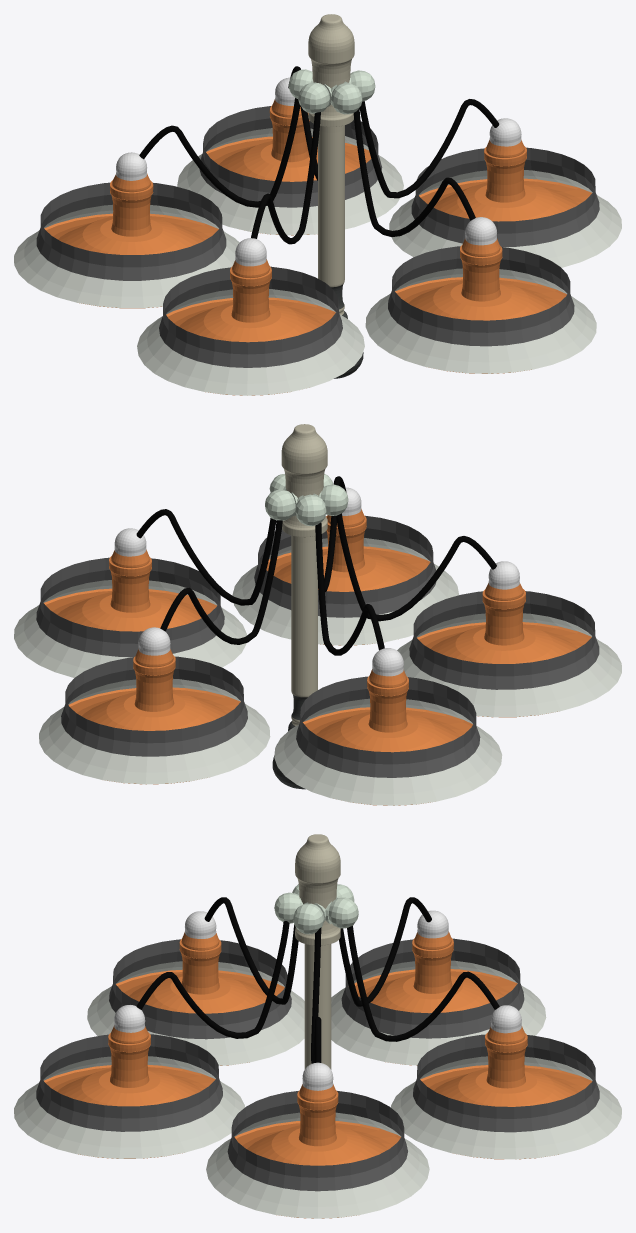
File: Chandelier titik.fbx
3 renders of one model, top to bottom at view 1: azimuth 30°, elevation 25°; view 2: azimuth 150°, elevation 25°; view 3: azimuth 270°, elevation 25°, orthographic.
Parts seen in each view (by area): view 1: Cube.001, Cylinder, BezierCurve, Cube; view 2: Cube.001, Cylinder, BezierCurve, Cube; view 3: Cube.001, BezierCurve, Cylinder, Cube.
Boxes of the visible parts, bbox=[...] form: Cube.001: bbox=[14, 77, 621, 395]; Cylinder: bbox=[308, 14, 363, 378]; BezierCurve: bbox=[139, 66, 499, 244]; Cube: bbox=[288, 69, 375, 114]; Cube.001: bbox=[14, 487, 621, 805]; Cylinder: bbox=[272, 424, 327, 789]; BezierCurve: bbox=[136, 476, 496, 655]; Cube: bbox=[265, 474, 348, 526]; Cube.001: bbox=[14, 910, 621, 1218]; BezierCurve: bbox=[136, 897, 499, 1063]; Cylinder: bbox=[295, 834, 340, 1069]; Cube: bbox=[274, 884, 358, 934].
Size of the model in its own units: 1201 by 789 by 1235.
